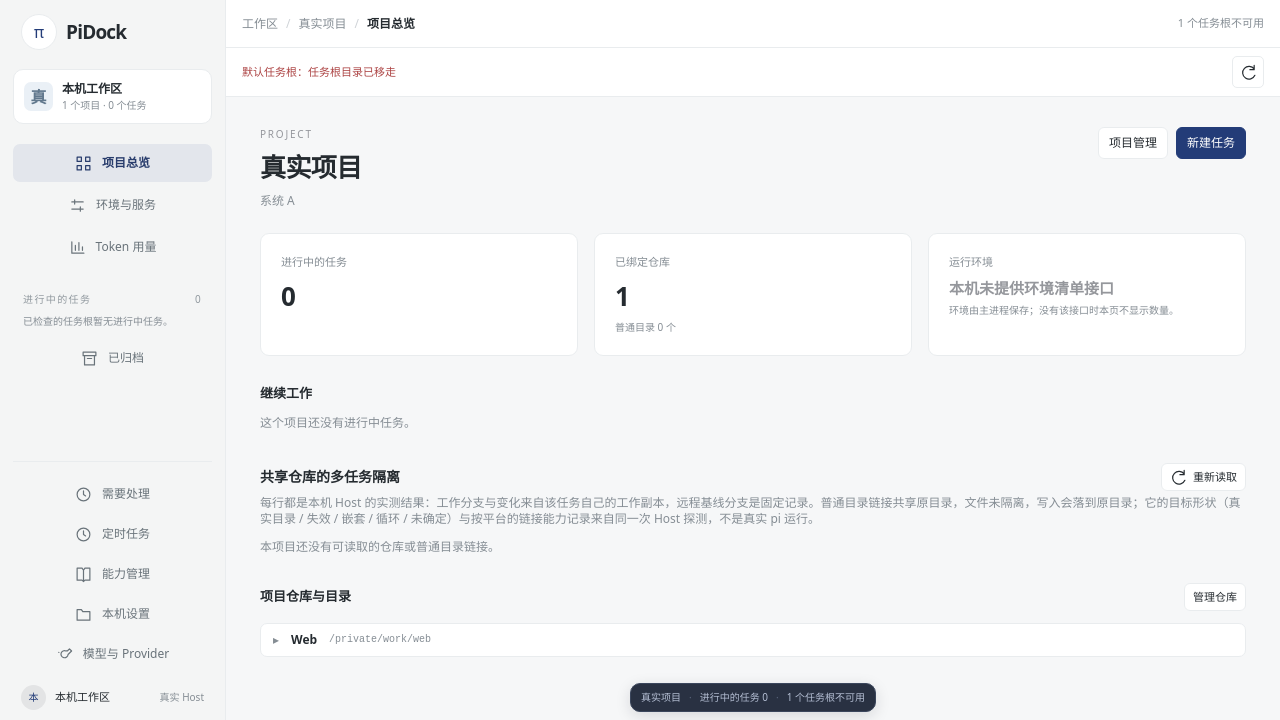
Test case: Desktop production data › rereads an externally restored missing root from management without import or changing identities
This screenshot has width=1280, height=720.
Click the button "项目管理": (1133, 143) [1098, 127, 1168, 159]
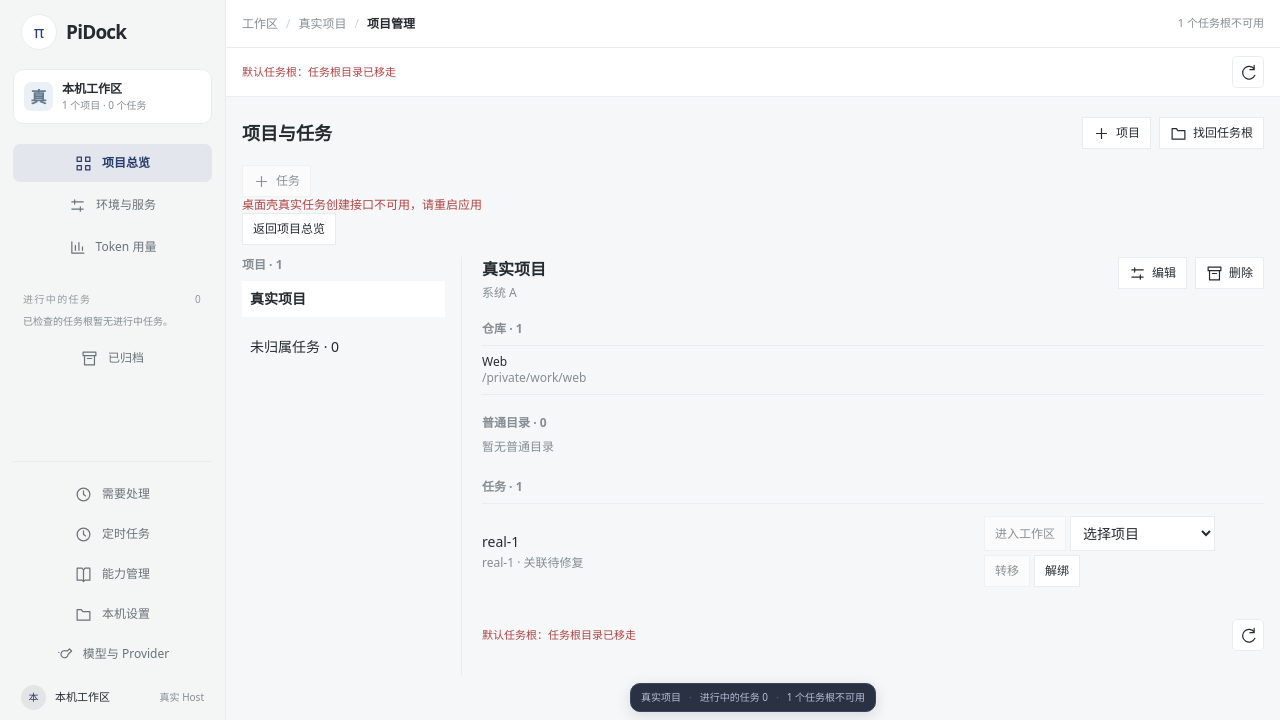
Click the 2nd button named "重试读取默认任务根": (1248, 635) [1232, 619, 1264, 651]
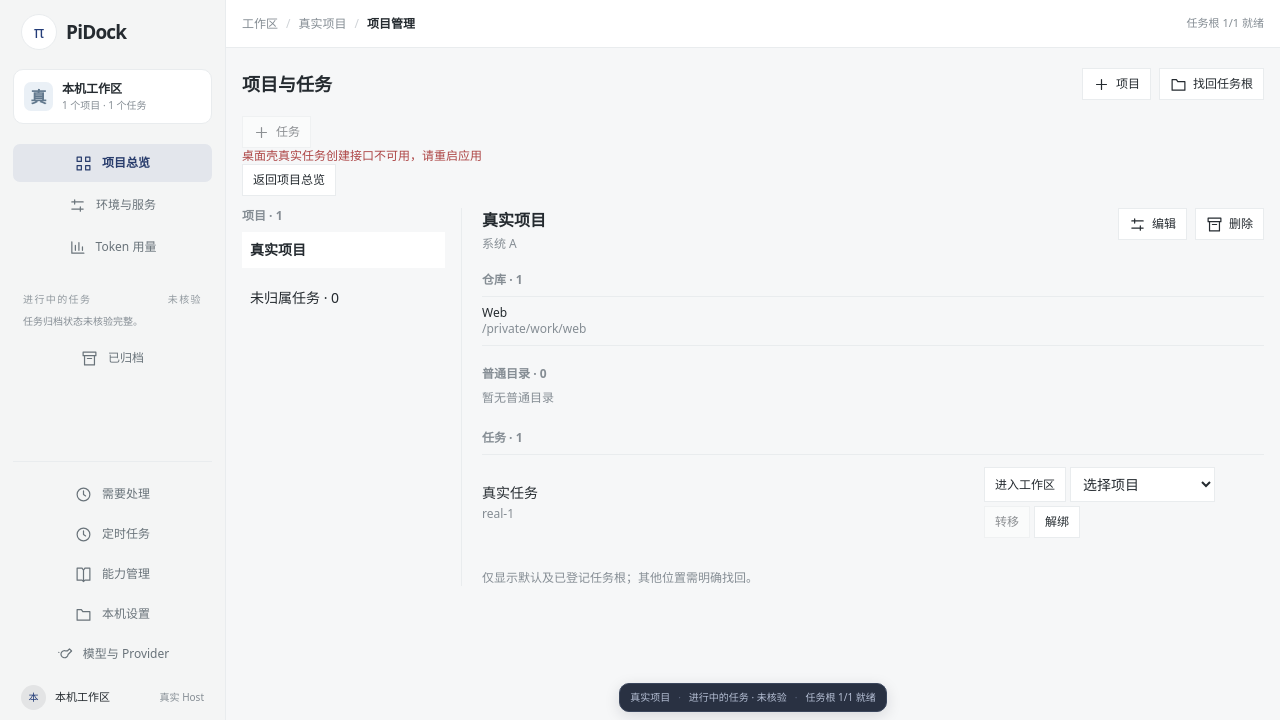
Result: the text "real-1" is shown at [482, 504, 514, 522]
Result: the button "重试读取默认任务根" is gone
Result: the button "进入工作区" is enabled at [984, 467, 1066, 502]
Click the button "编辑": (1152, 224) [1118, 208, 1187, 240]
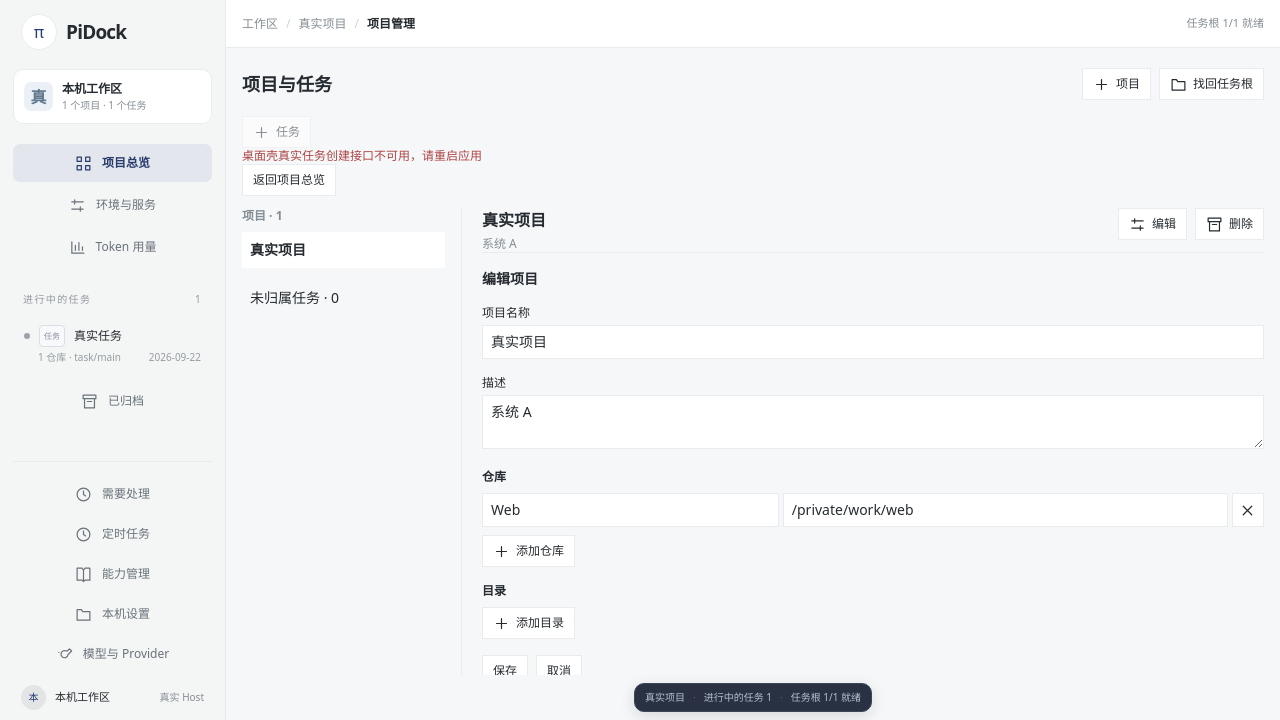
Result: the button "真实项目" is shown at [242, 232, 445, 268]
Result: the field named "仓库路径 1" holds "/private/work/web" at [783, 493, 1228, 527]
